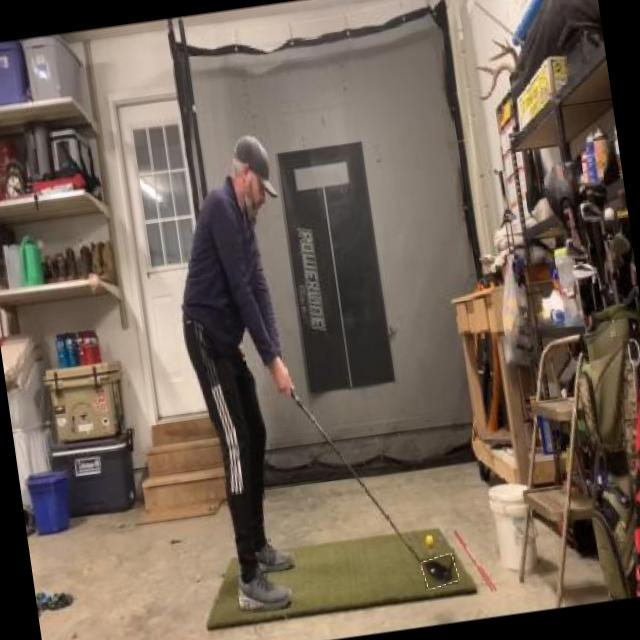club head: (421, 554, 459, 589)
